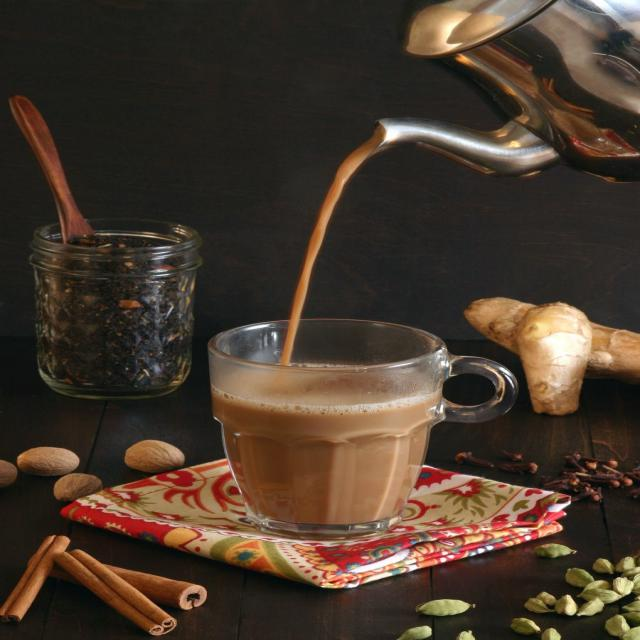Chai: (222, 122, 434, 535)
